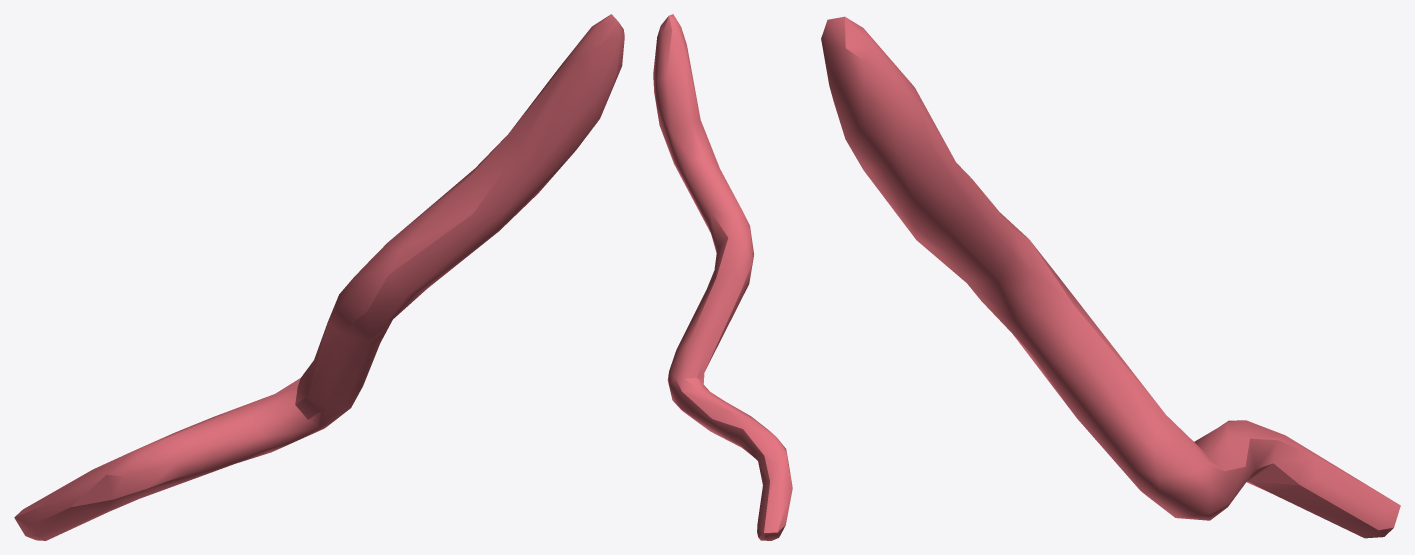
Rendered from fma3876_fj2647.glb.
The picture shows the model from 3 angles, left to right: view 1: azimuth 30°, elevation 25°; view 2: azimuth 150°, elevation 25°; view 3: azimuth 270°, elevation 25°; orthographic projection. The views are drawn at different scales.
Visible parts, largest first — view 1: FMA3876_FJ2647; view 2: FMA3876_FJ2647; view 3: FMA3876_FJ2647.
Boxes of the visible parts, box(x1,y1,x2,y2) form: FMA3876_FJ2647: box(14, 14, 624, 540); FMA3876_FJ2647: box(653, 14, 792, 540); FMA3876_FJ2647: box(821, 16, 1400, 538).
Bounding box in the file's own units: 0.00668 × 0.00943 × 0.00665.
